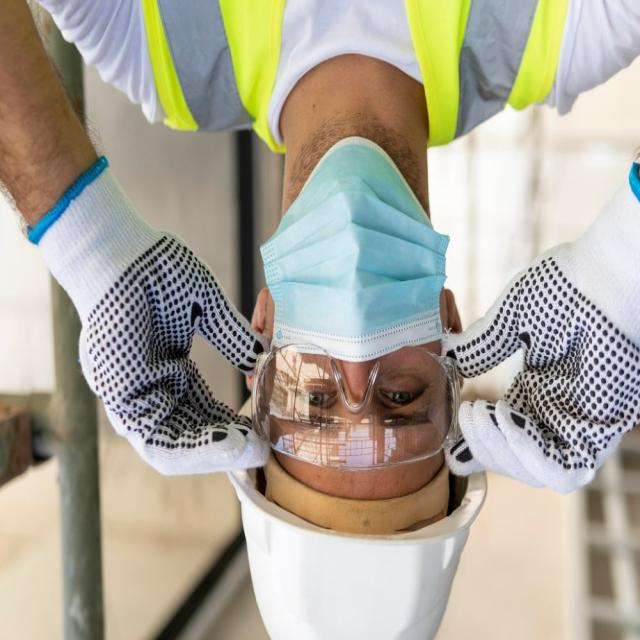Glasses: (246, 340, 470, 476)
Gloves: (18, 156, 270, 479), (448, 137, 638, 502)
Helmet: (224, 480, 499, 640)
